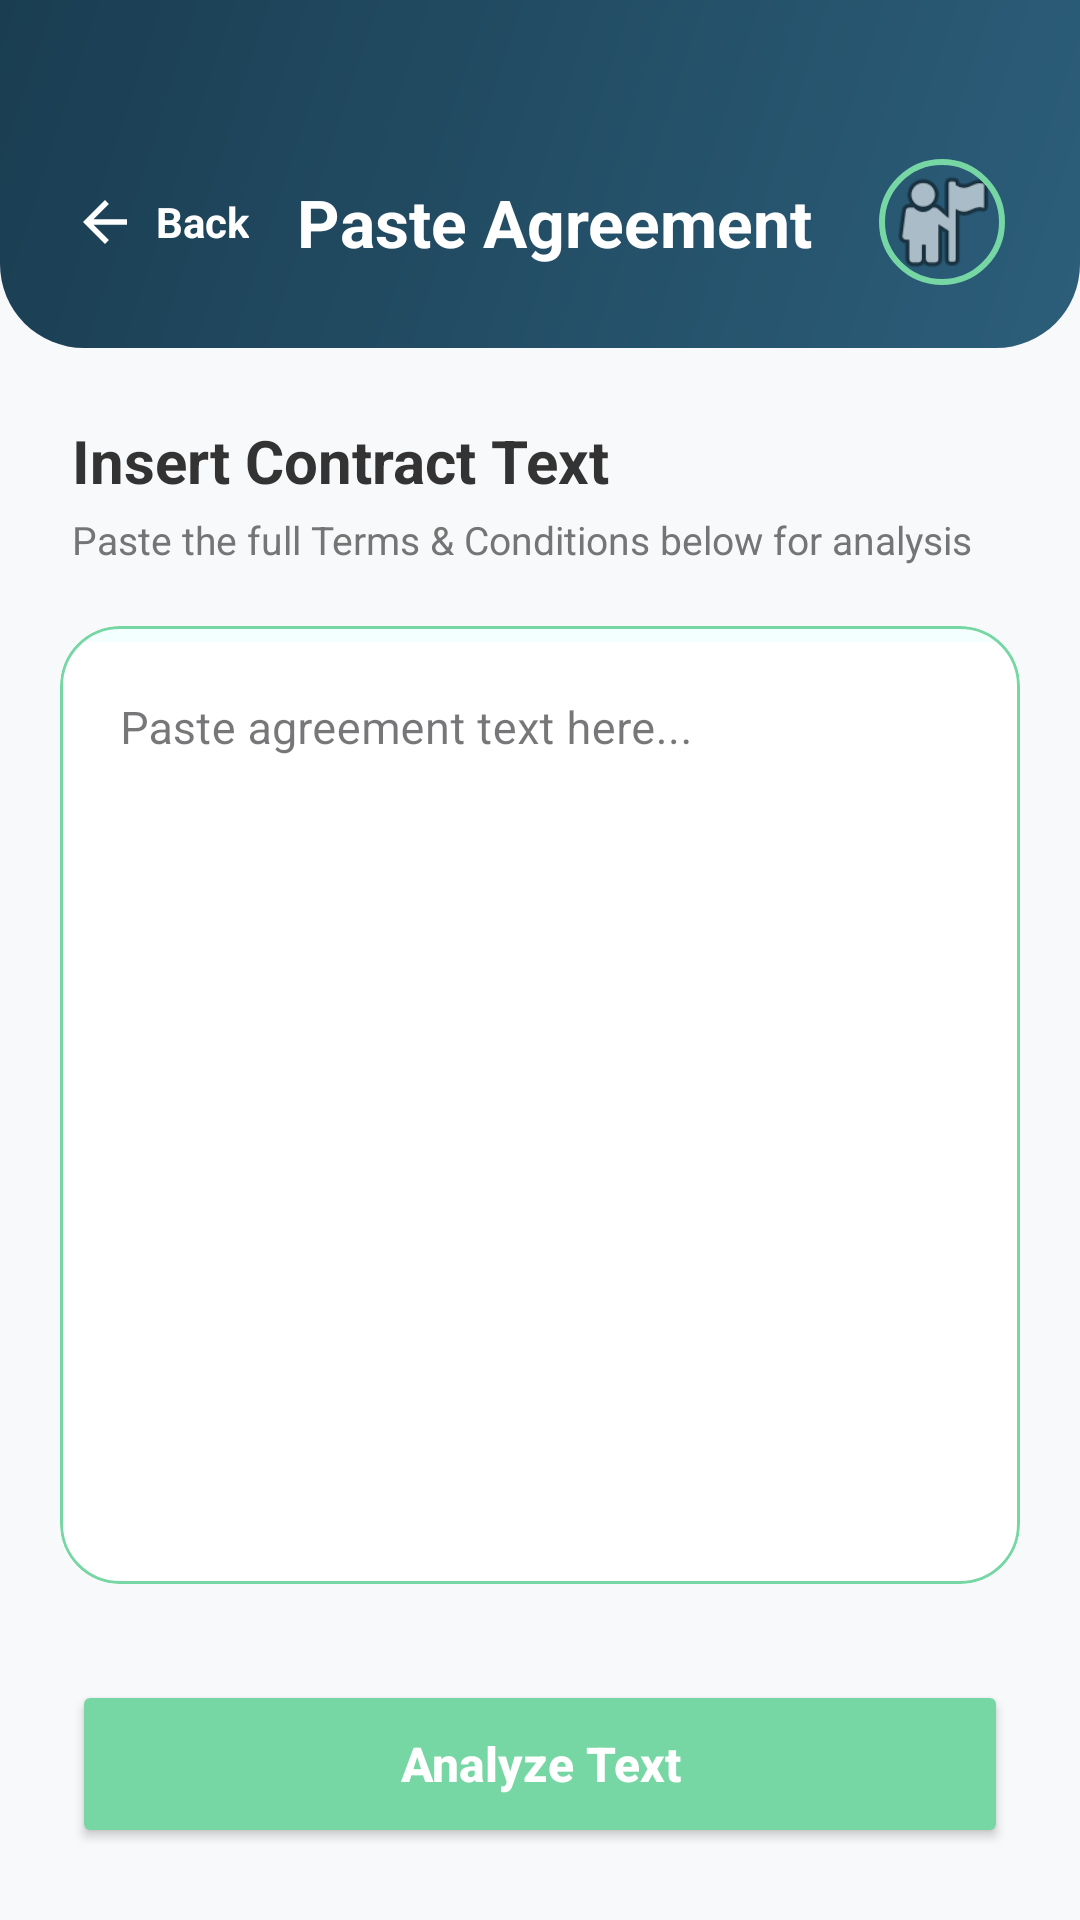

Locate icon controls on the screen. Image size 1080px×1920px, boxes as (left=x1, top=y1, right=x2, bottom=y2).
myplaces: (left=879, top=159, right=1005, bottom=285)
